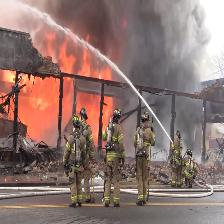fire: (20, 89, 55, 141)
smoke: (117, 2, 191, 84)
